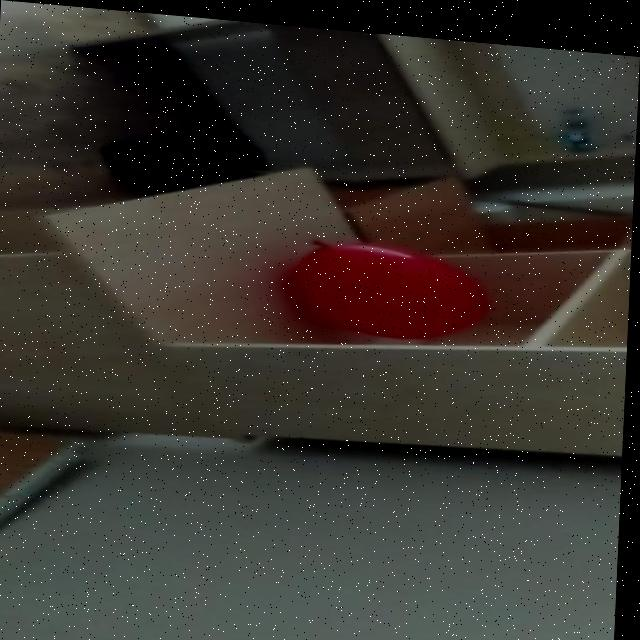balloon: (279, 223, 510, 343)
